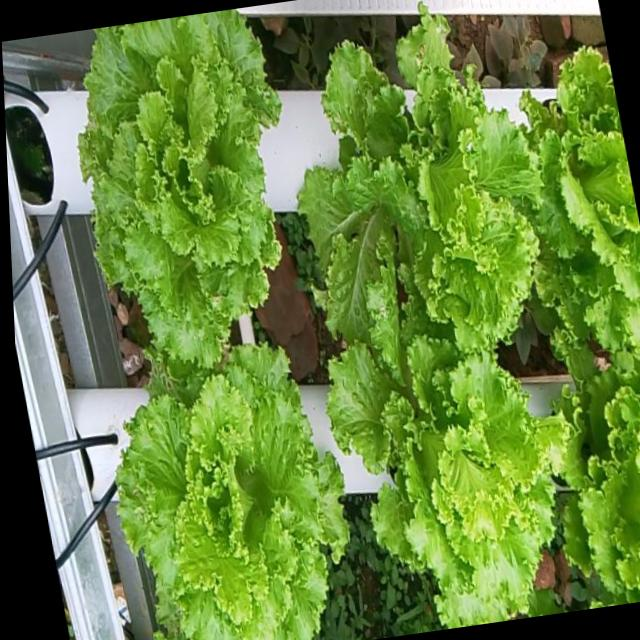Mature: (285, 21, 517, 350), (309, 293, 538, 620), (102, 332, 329, 640), (68, 11, 268, 353), (500, 62, 640, 351), (538, 342, 640, 605)
